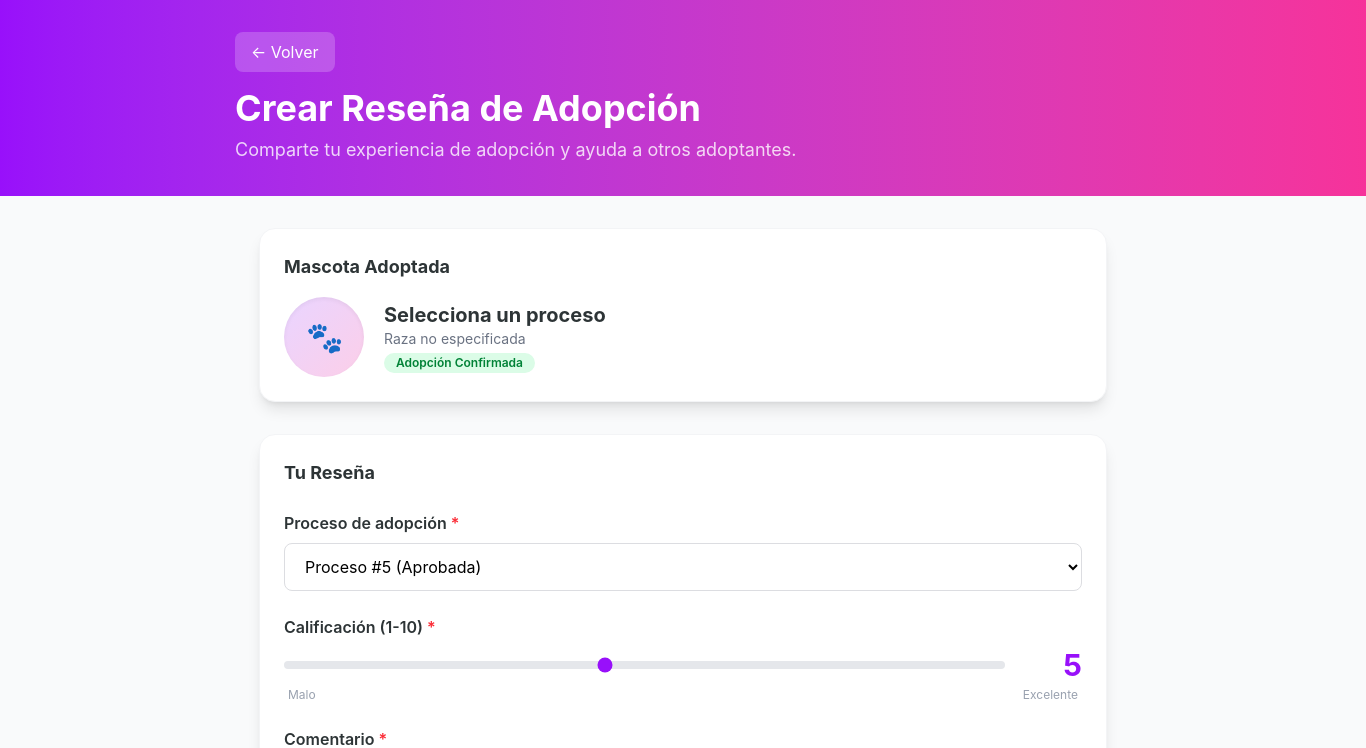
Scenario: CreateReviewScreen – Integration Tests › submits a review to the API with the correct payload
Set the slider labelled "Calificación (1-10) *" to "8" at [841, 665], box [284,661,1005,669]
(page scrolled)
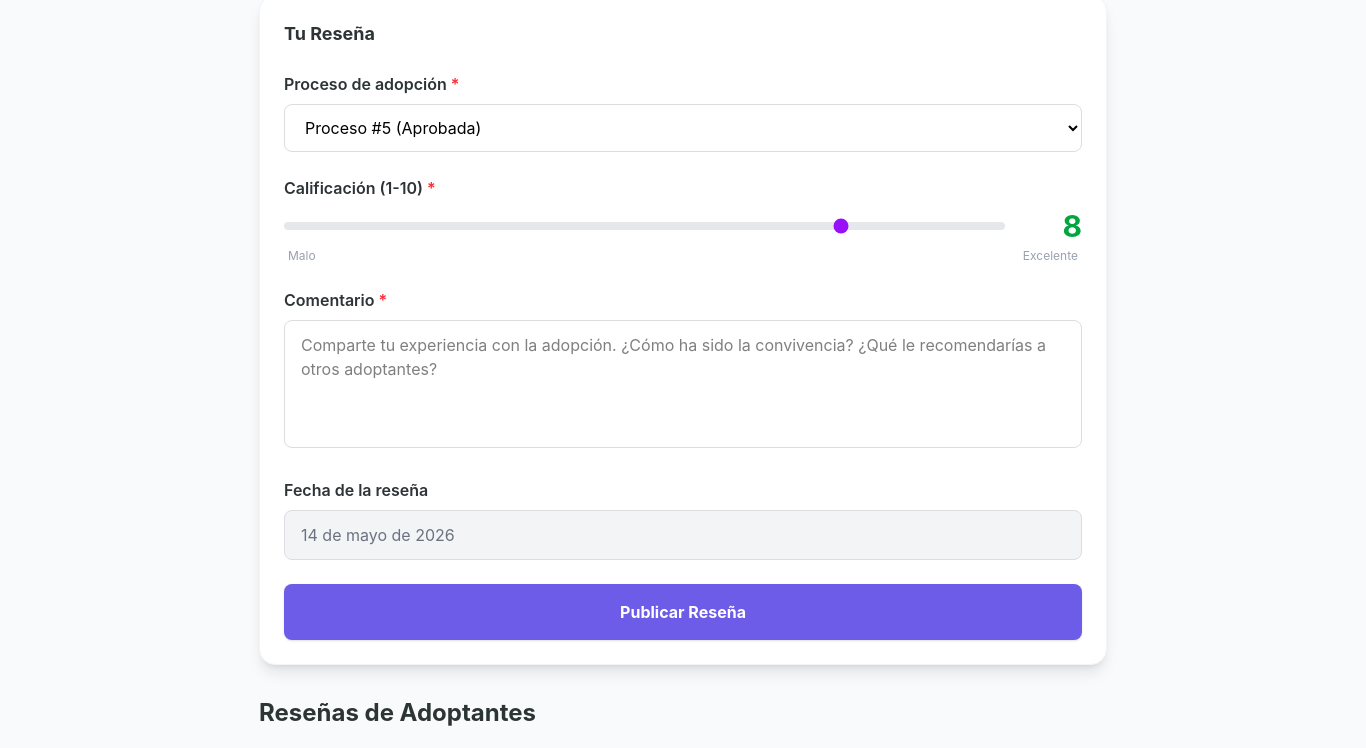
# Type a comment
Type "Gran experiencia" into the text box labelled "Comentario *".
click(683, 384); type("Gran experiencia")  # box [284,320,1082,448]
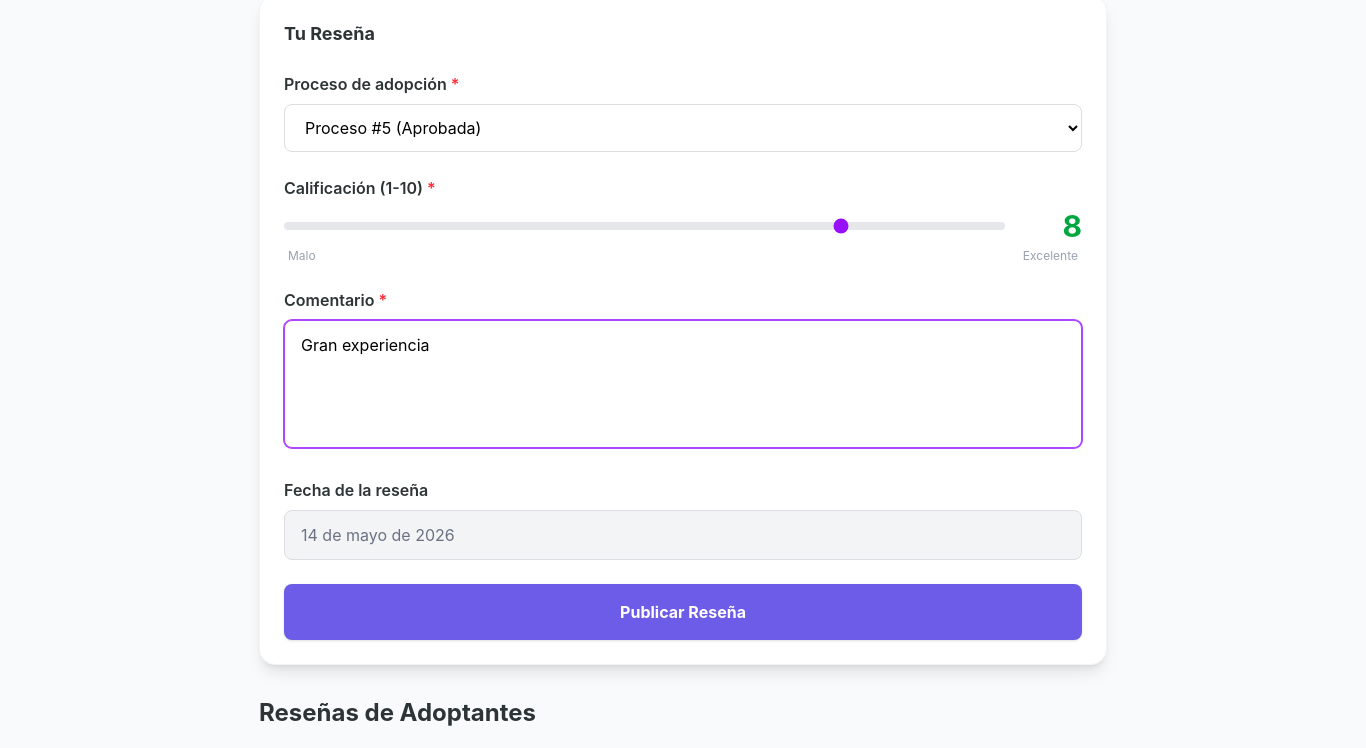
Click the button "Publicar Reseña".
click(683, 612)  # box [284,584,1082,640]
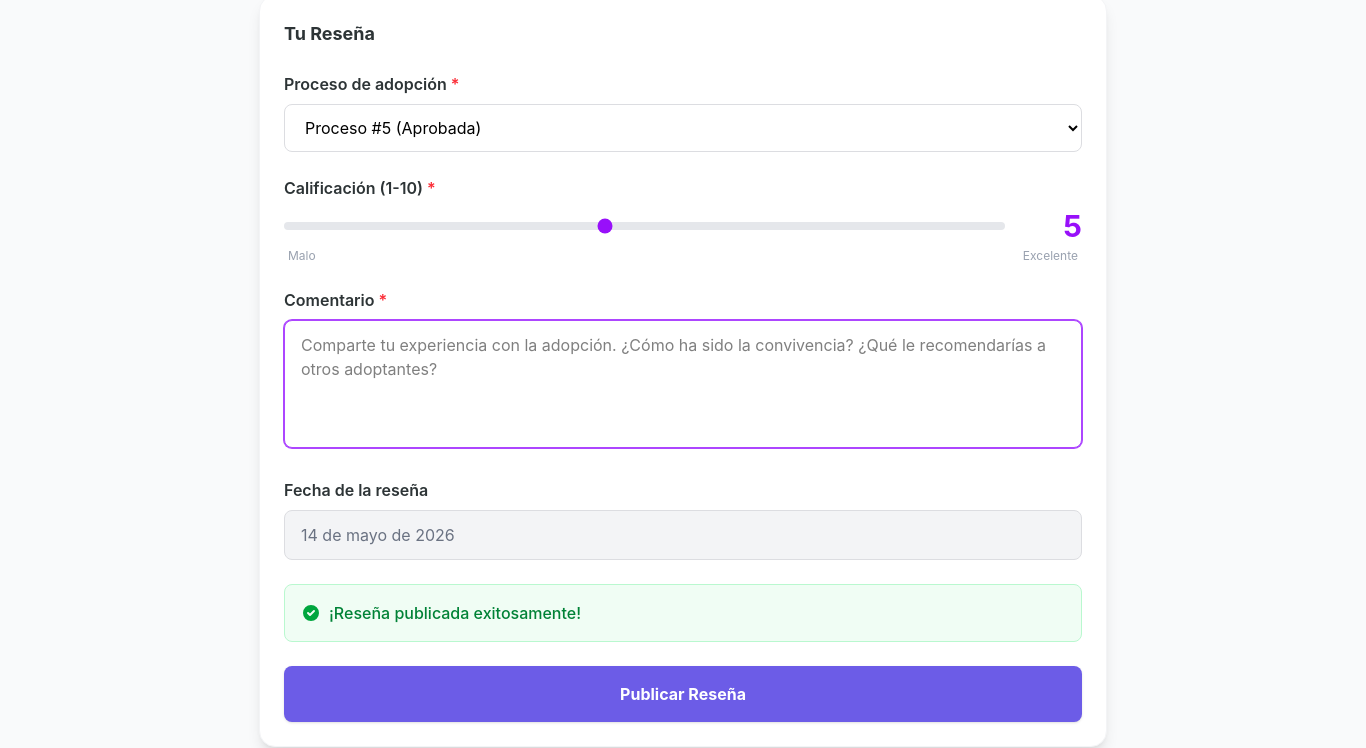
Result: the text "¡Reseña publicada exitosamente!" is shown at [329,601,581,625]
